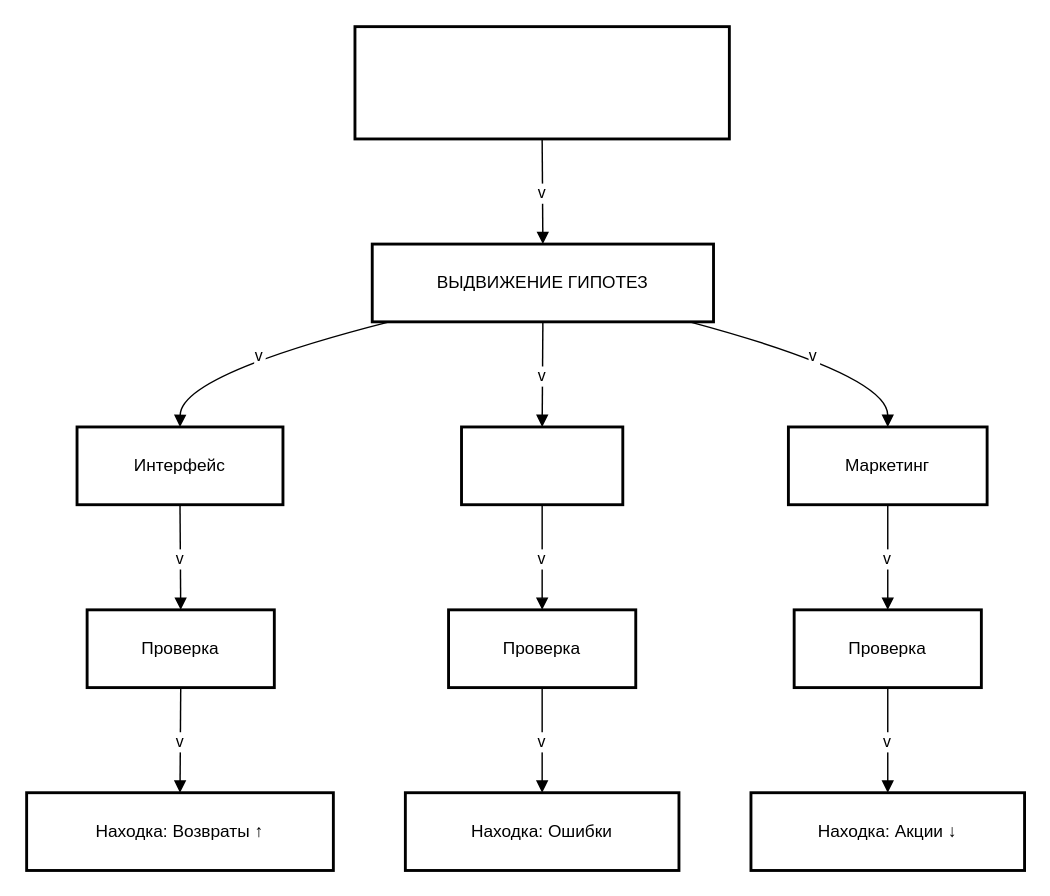
The diagram is 1050 pixels wide and 896 high, and some of its shapes have lost their labels. Each missing label, with the centre of its shape:
Оплата: (541,465)
ПРОБЛЕМА: Падение конверсии 7%: (541,82)
